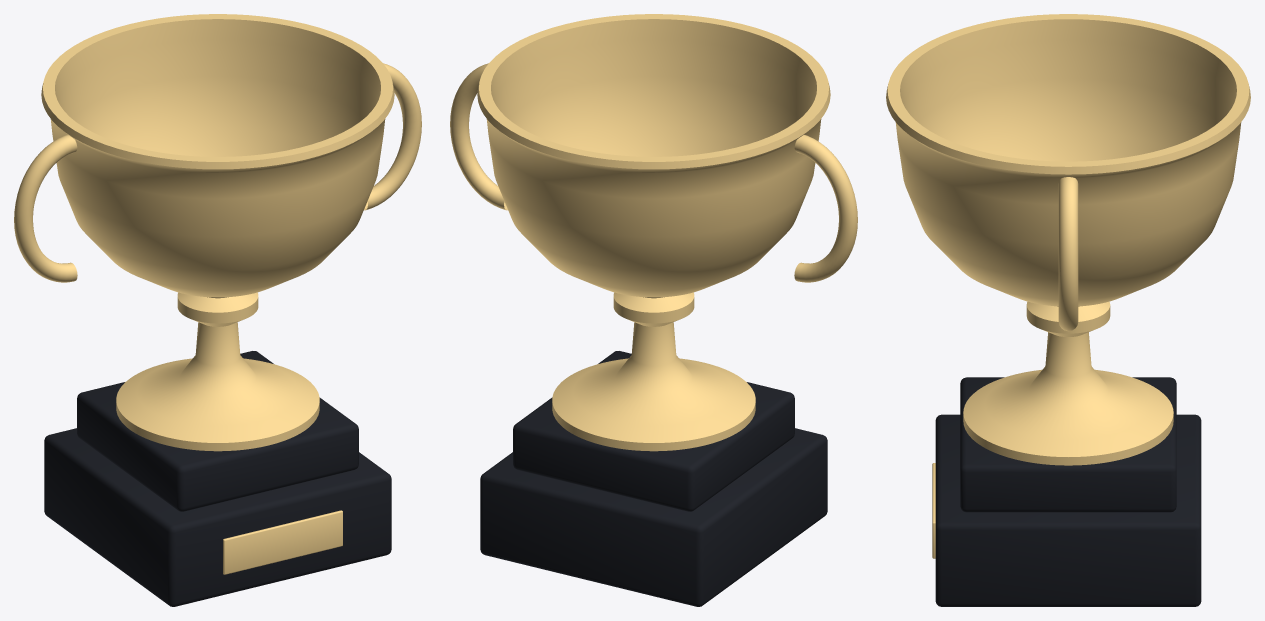
File: trophy.glb
The picture shows the model from 3 angles, left to right: view 1: azimuth 30°, elevation 25°; view 2: azimuth 150°, elevation 25°; view 3: azimuth 270°, elevation 25°; orthographic projection. The views are drawn at different scales.
Parts seen in each view (by area): view 1: TutoryTrophy; view 2: TutoryTrophy; view 3: TutoryTrophy.
Boxes of the visible parts, x1=… form: TutoryTrophy: x1=14, y1=14, x2=421, y2=606; TutoryTrophy: x1=450, y1=14, x2=857, y2=606; TutoryTrophy: x1=886, y1=14, x2=1250, y2=606.
Bounding box in the file's own units: 1.56 × 1.65 × 1.18.
